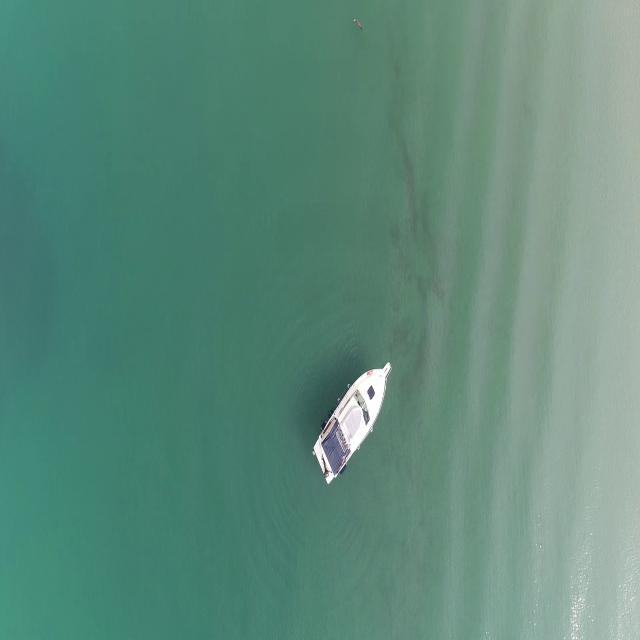boat: (315, 357, 392, 489)
wood: (352, 17, 364, 31)
